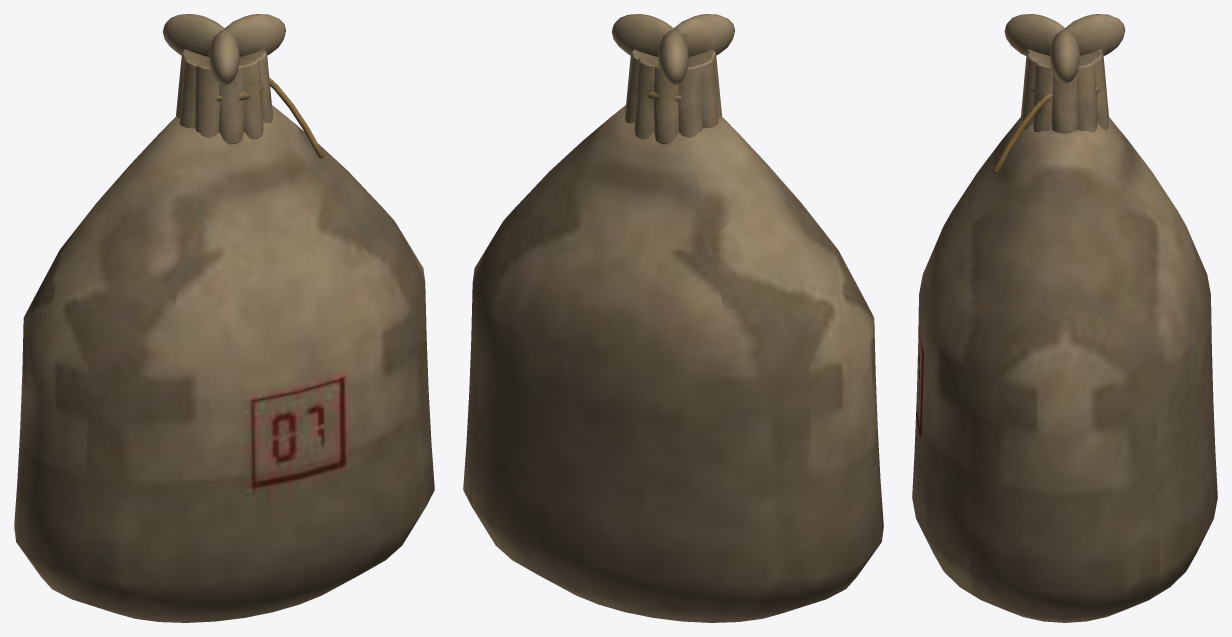
File: grain_sack.glb
3 views of the same model, side by side, from view 1: azimuth 30°, elevation 25°; view 2: azimuth 150°, elevation 25°; view 3: azimuth 270°, elevation 25° (orthographic). The views are drawn at different scales.
Visible parts, largest first — view 1: grain_sack; view 2: grain_sack; view 3: grain_sack.
Part boxes in pixels (<box>): grain_sack: <box>14,14,434,622</box>; grain_sack: <box>463,14,883,622</box>; grain_sack: <box>912,14,1217,622</box>.
Bounding box in the file's own units: 0.4425 × 0.624 × 0.3055.
Materials: 1 (1 with a texture image).
